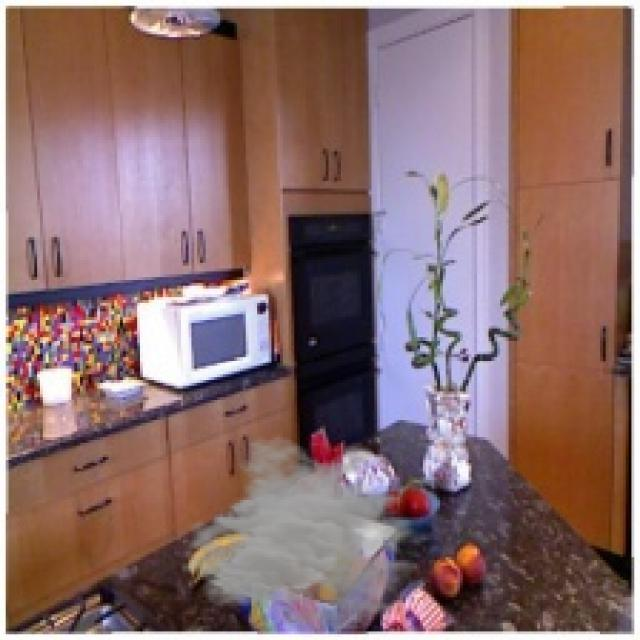smoke: (177, 434, 440, 637)
